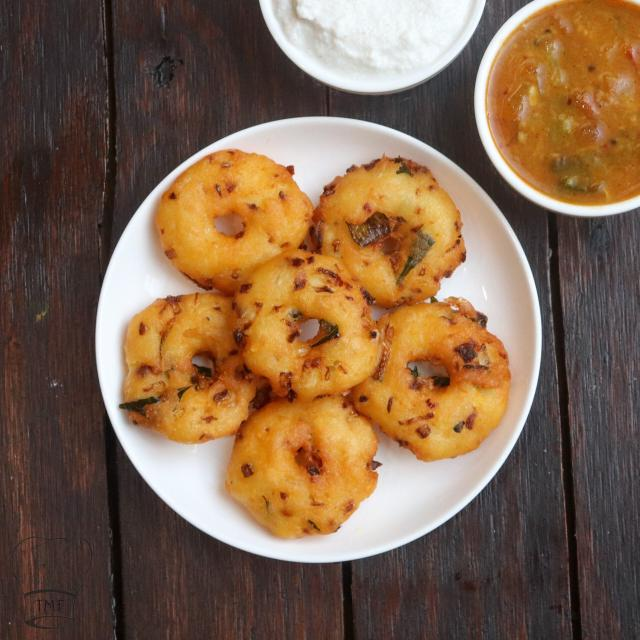MEDU VADA: (356, 298, 514, 455), (221, 398, 384, 544), (230, 257, 386, 401), (160, 152, 310, 293), (122, 290, 262, 440), (314, 164, 463, 297)
